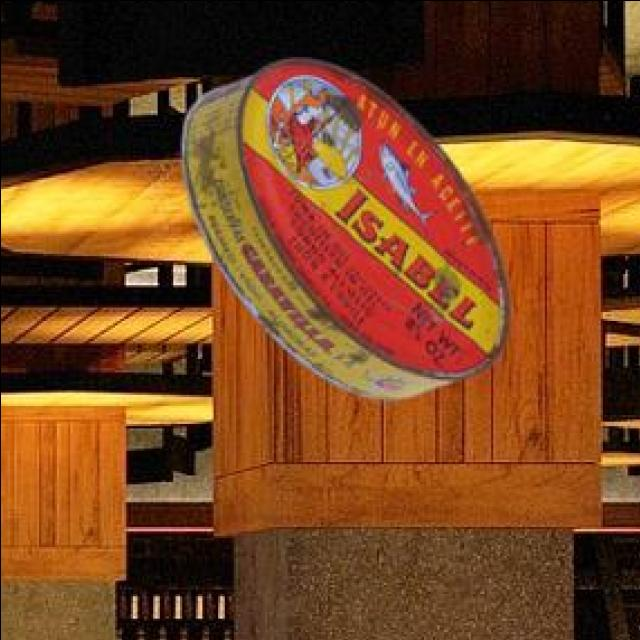logam: (185, 62, 511, 402)
